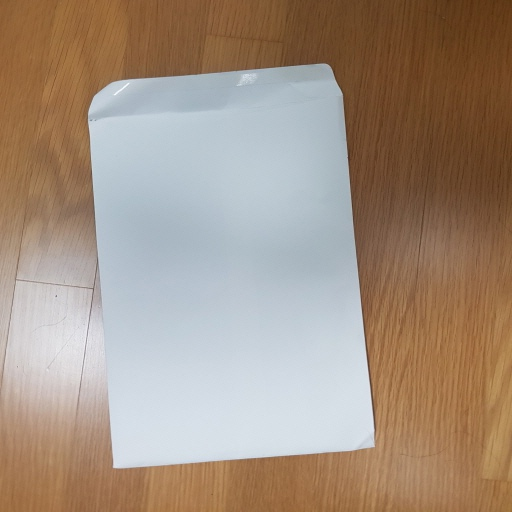Paper_2: (81, 61, 382, 474)
